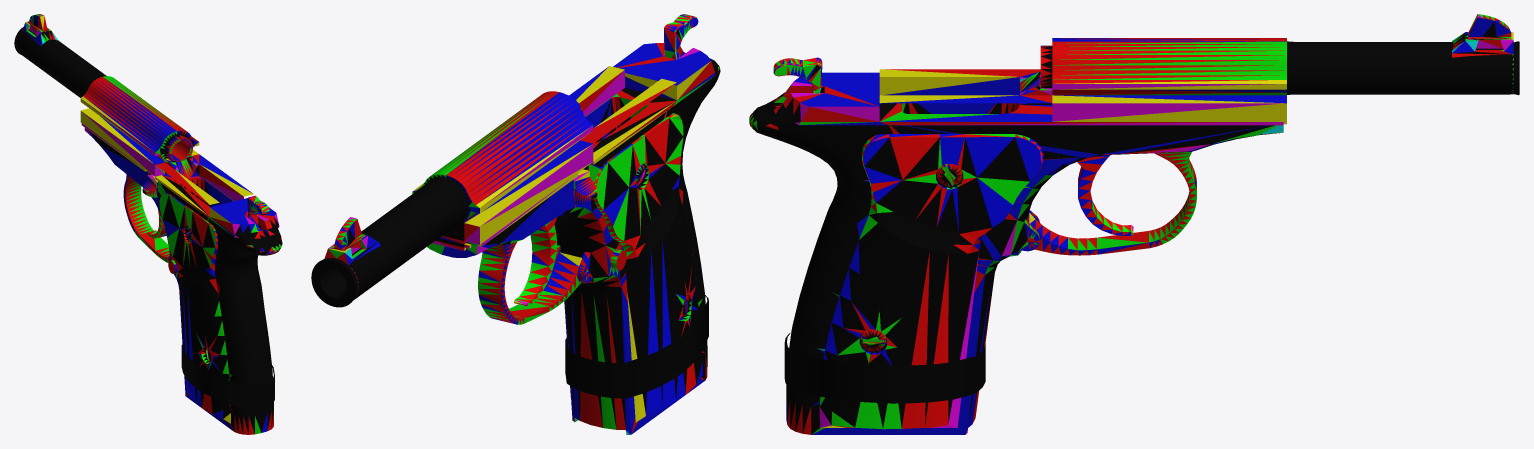
Rendered from field_frame.glb.
3 views of the same model, side by side, from view 1: azimuth 30°, elevation 25°; view 2: azimuth 150°, elevation 25°; view 3: azimuth 270°, elevation 25° (orthographic). The views are drawn at different scales.
Parts seen in each view (by area): view 1: field_frame; view 2: field_frame; view 3: field_frame.
Part boxes in pixels (x1,y1,x2,y2): field_frame: (14,14,282,434); field_frame: (311,14,720,434); field_frame: (749,14,1519,434).
Bounding box in the file's own units: 0.0329 × 0.1286 × 0.2221.
